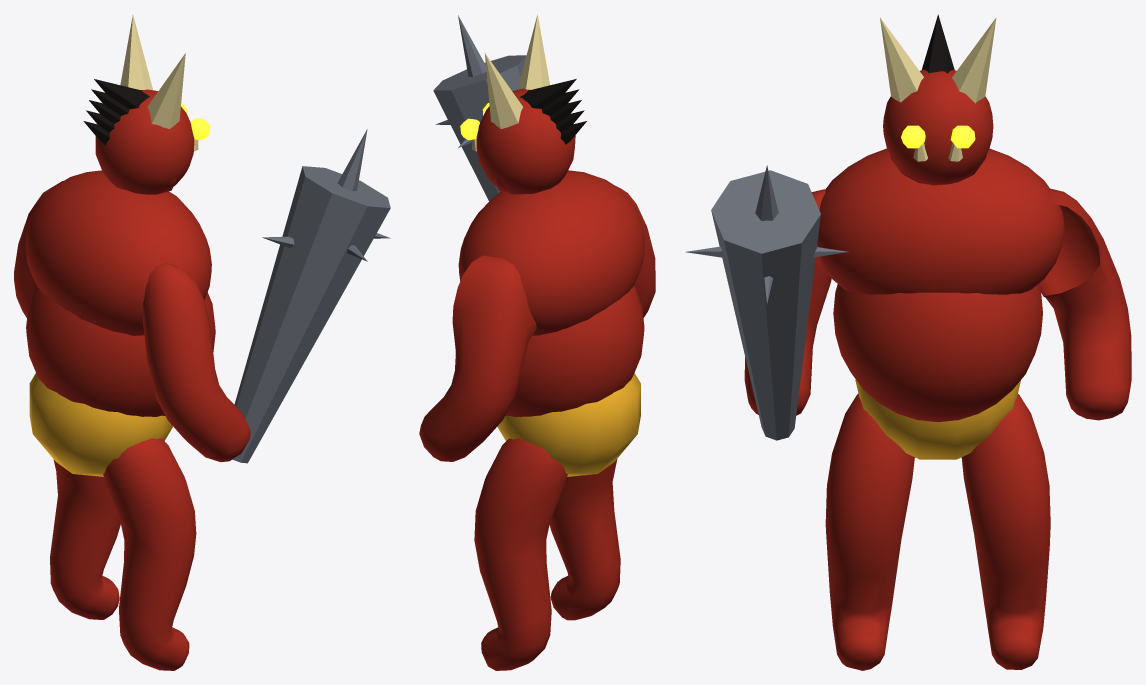
The model's file is oni.glb.
The picture shows the model from 3 angles, left to right: view 1: azimuth 30°, elevation 25°; view 2: azimuth 150°, elevation 25°; view 3: azimuth 270°, elevation 25°; orthographic projection. The views are drawn at different scales.
Visible parts, largest first — view 1: oni.001; view 2: oni.001; view 3: oni.001.
Part boxes in pixels (x1=…): oni.001: x1=14, y1=15, x2=390, y2=670; oni.001: x1=419, y1=14, x2=655, y2=670; oni.001: x1=685, y1=14, x2=1131, y2=670.
Size of the model in its own units: 1.27 by 2.67 by 1.62.
